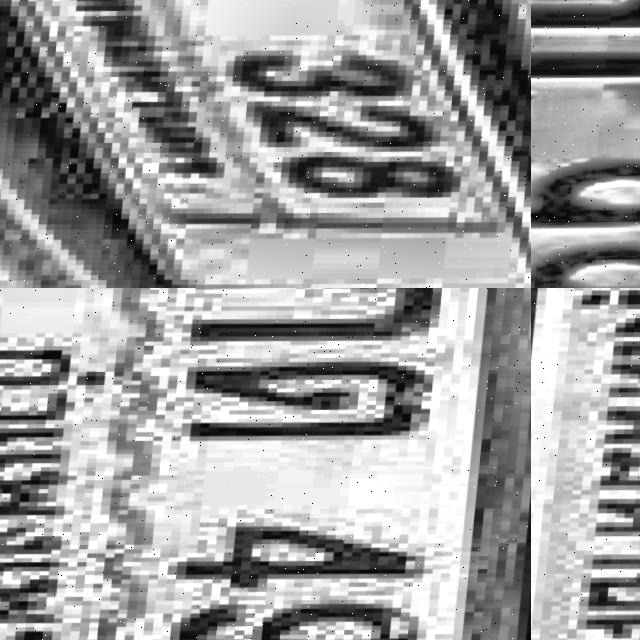license-plate: (0, 288, 531, 640), (0, 0, 531, 288), (531, 288, 640, 640), (531, 0, 640, 288)
